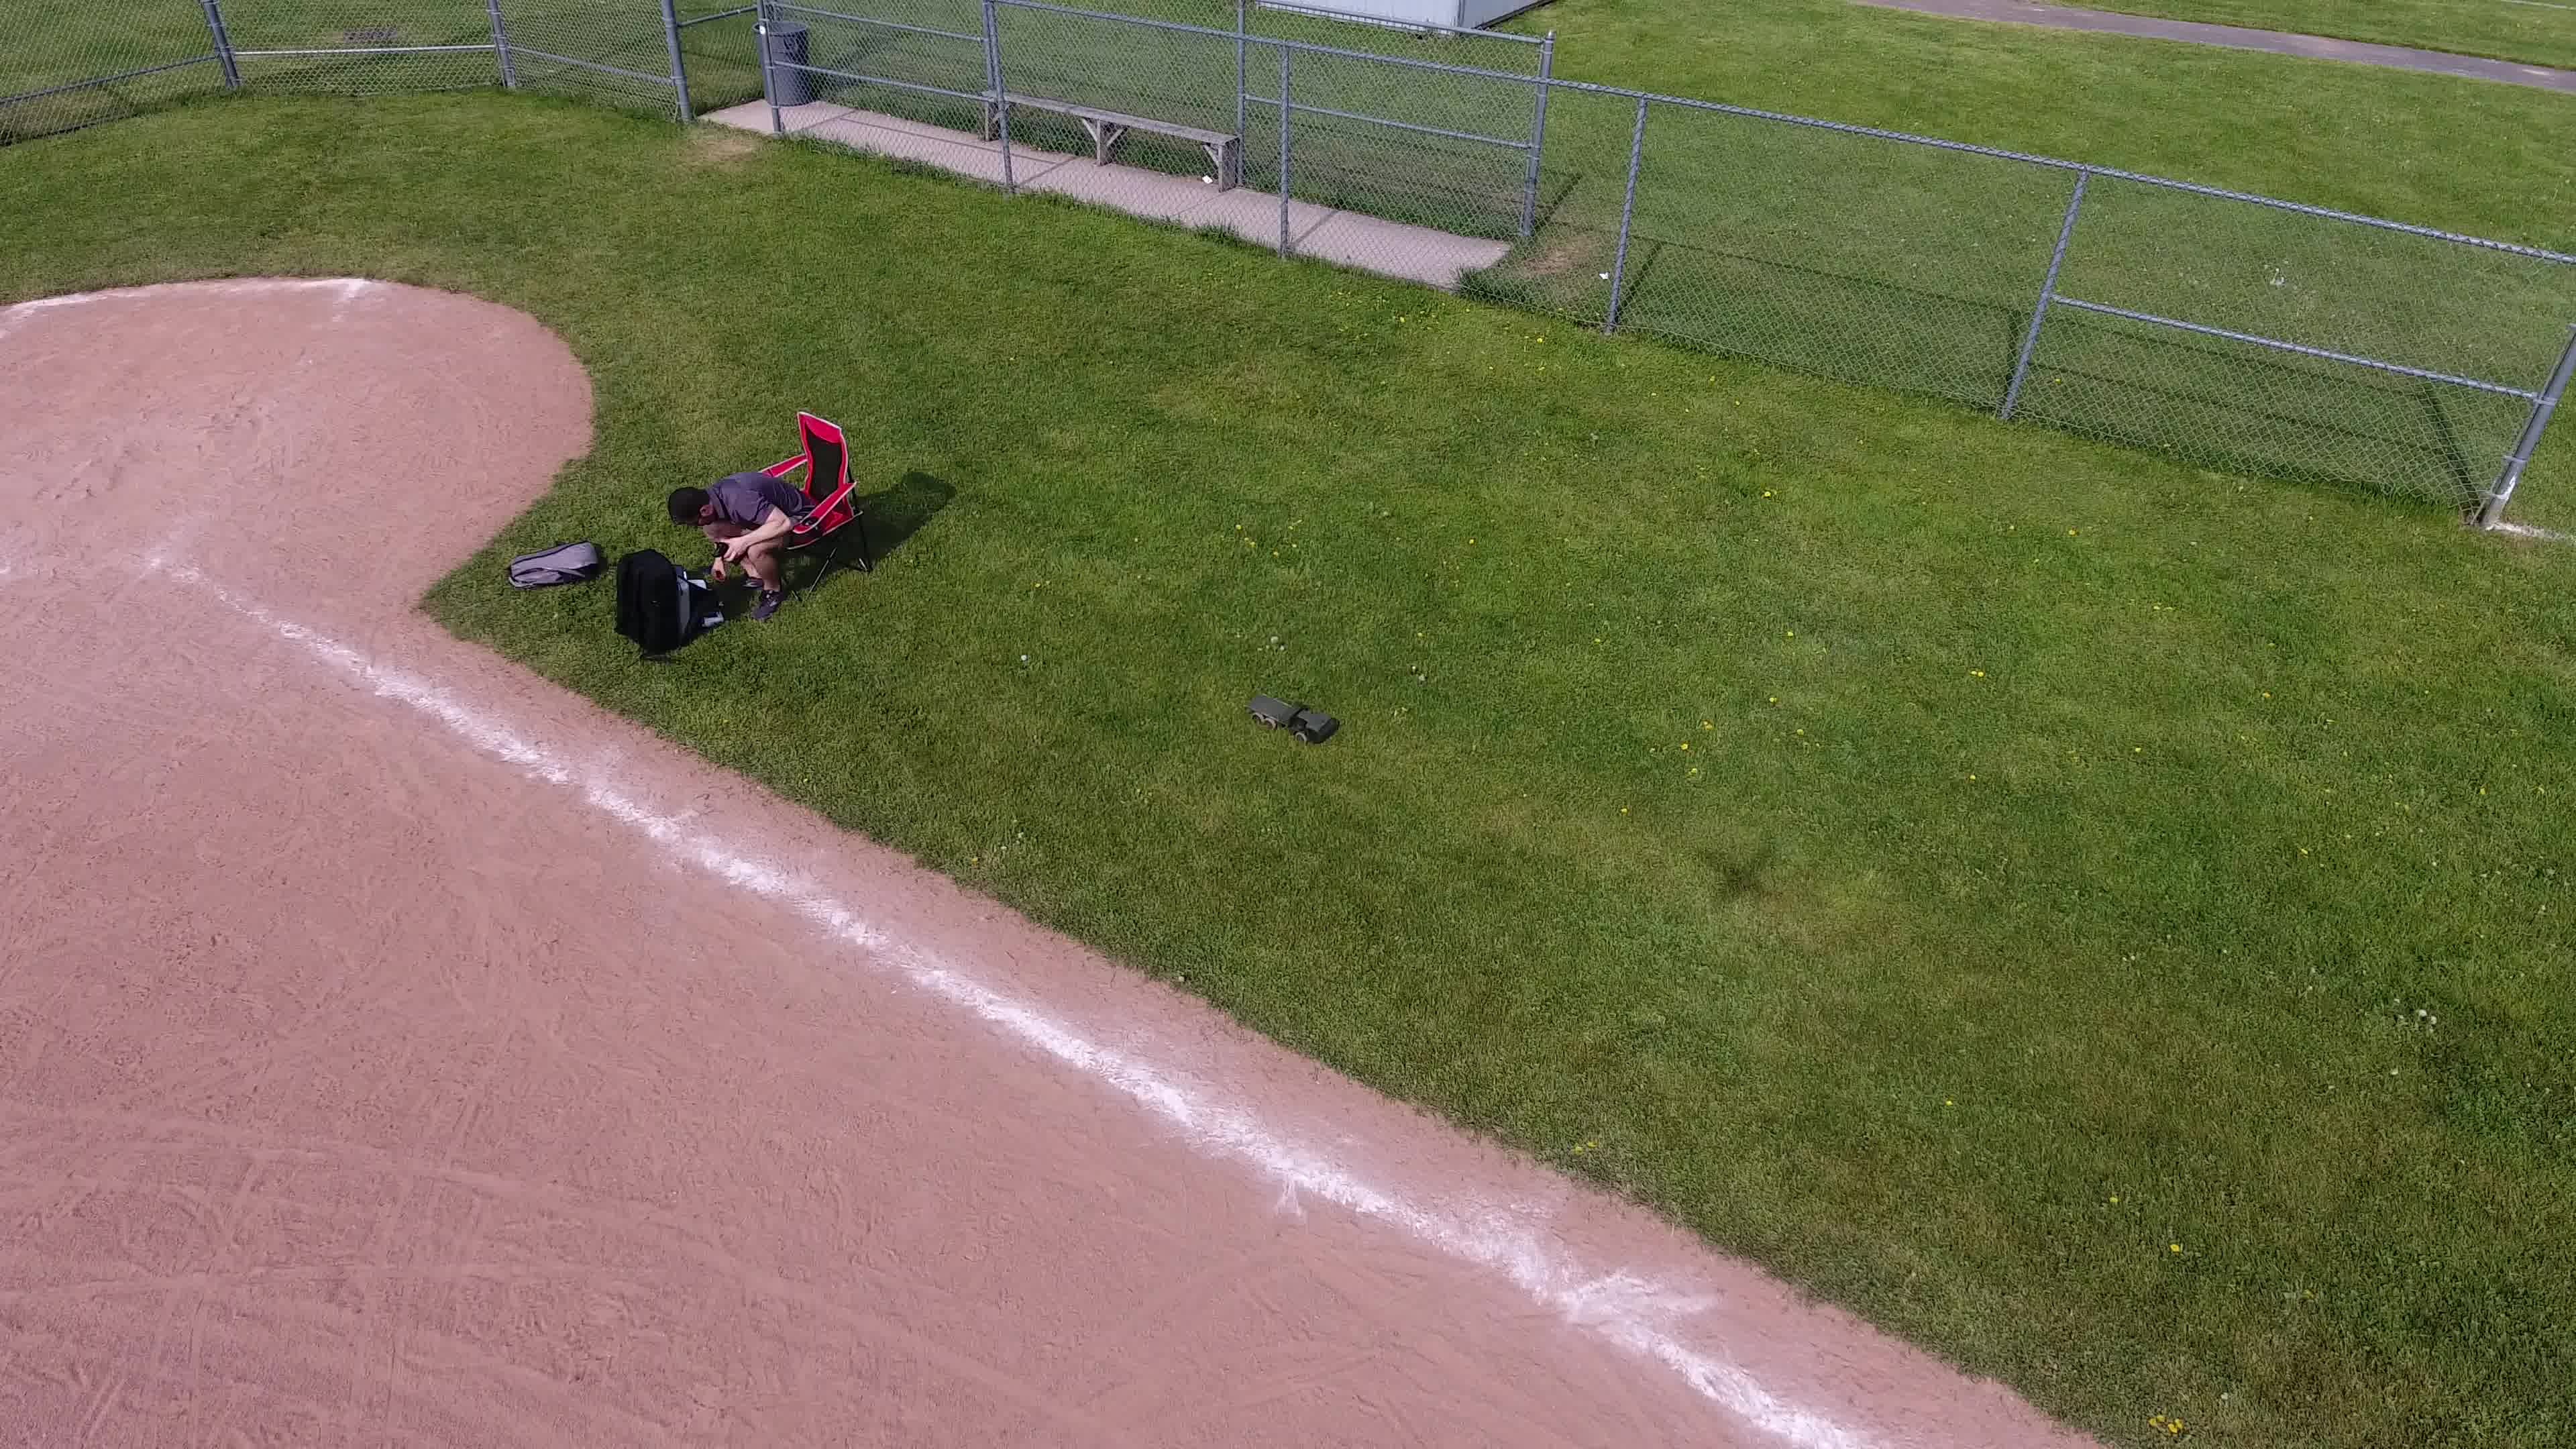transporter9: (1244, 686, 1341, 747)
